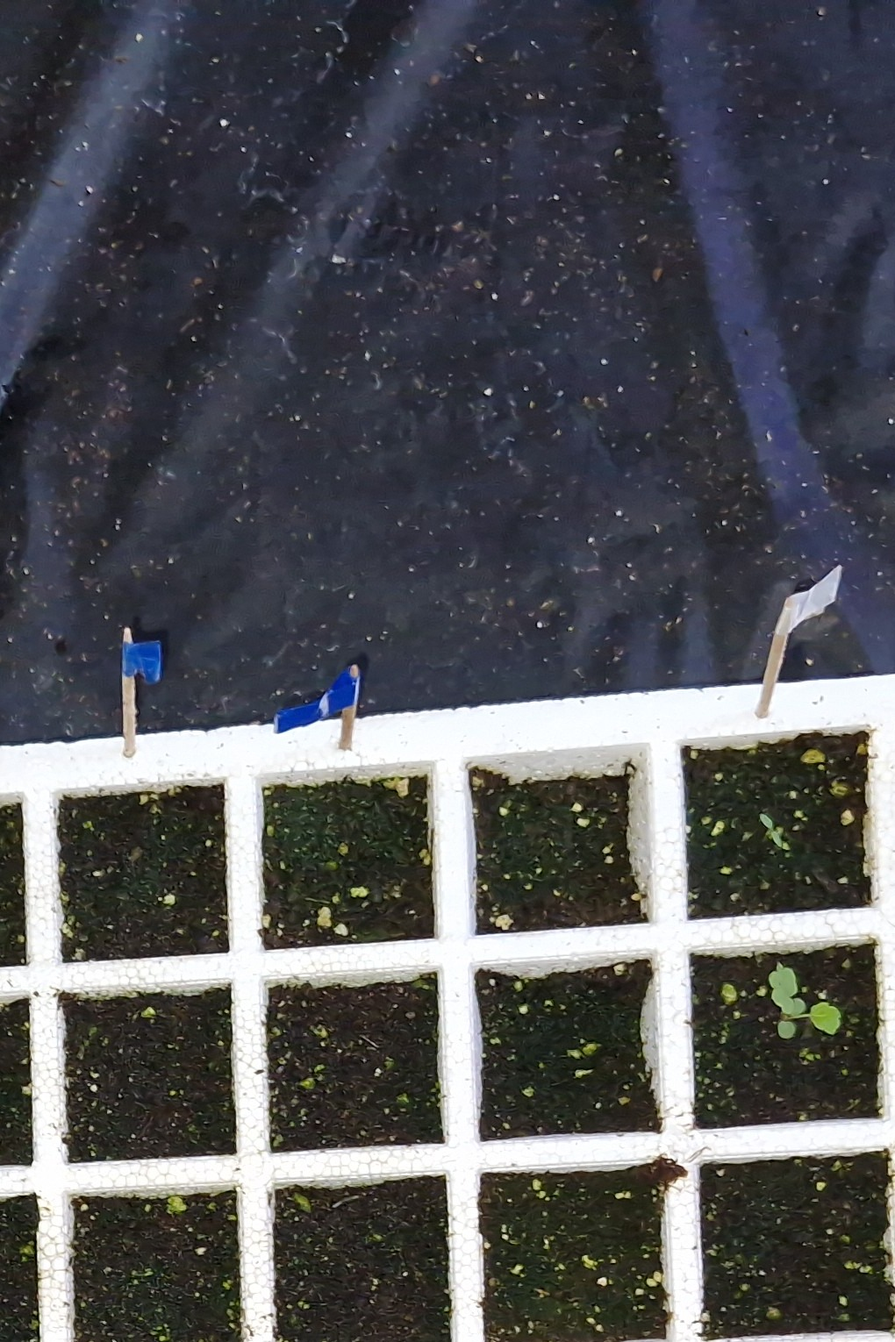Folha: (769, 966, 797, 1014), (810, 1003, 841, 1034), (778, 1021, 795, 1038), (789, 1000, 804, 1016), (760, 814, 773, 828), (771, 831, 782, 846)
Germinacao: (769, 965, 841, 1038), (759, 813, 782, 847)
